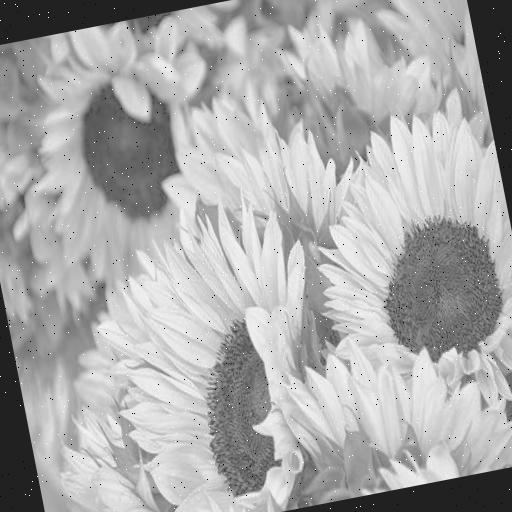sunflower: (77, 187, 352, 512), (295, 103, 512, 404)
